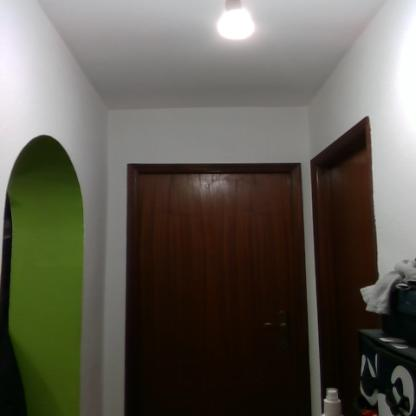closed: (106, 146, 316, 406), (306, 96, 378, 394)
